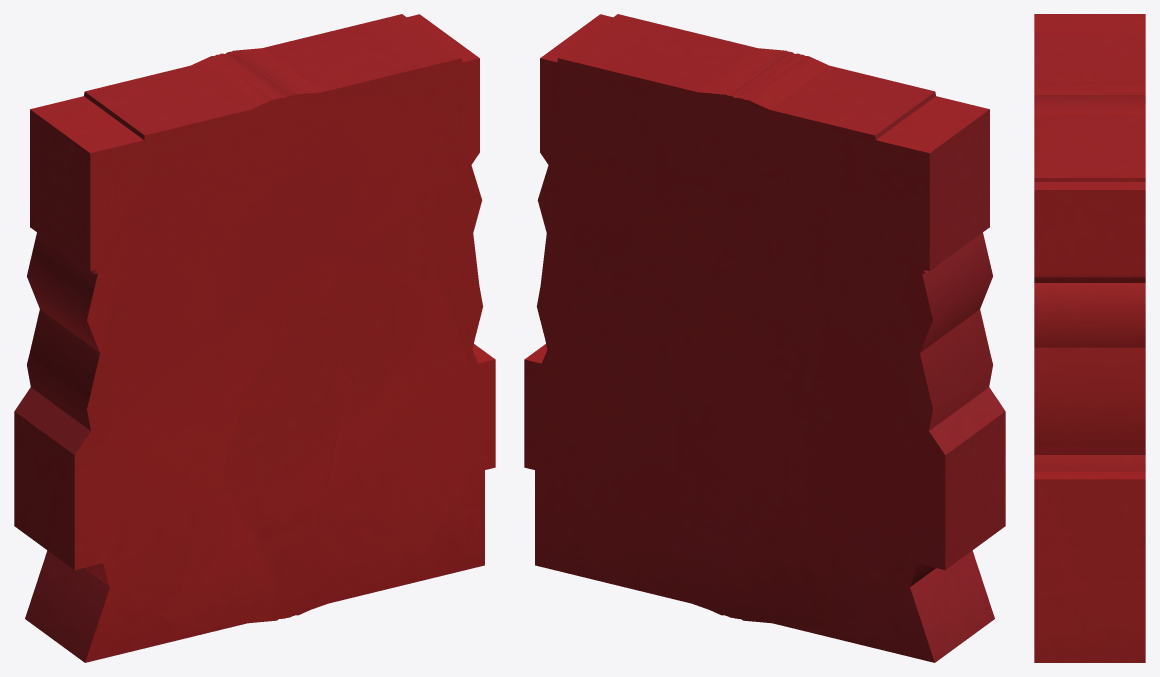
File: numbers.FBX
3 views of the same model, side by side, from view 1: azimuth 30°, elevation 25°; view 2: azimuth 150°, elevation 25°; view 3: azimuth 270°, elevation 25° (orthographic). The views are drawn at different scales.
Visible parts, largest first — view 1: 5, 4, 8, 9, 2, 0, 7, 6, 1, 3; view 2: 5, 4, 7, 9, 0, 3, 6, 1, 2, 8; view 3: 4, 2, 7, 5, 0, 9, 1, 6, 3, 8.
Boxes of the visible parts, <box> form: 5: <box>84,14,484,615</box>; 4: <box>14,20,495,604</box>; 8: <box>84,54,481,618</box>; 9: <box>27,56,483,628</box>; 2: <box>25,128,484,662</box>; 0: <box>29,51,481,618</box>; 7: <box>30,14,479,637</box>; 6: <box>27,48,482,615</box>; 1: <box>148,23,422,606</box>; 3: <box>91,53,474,617</box>; 5: <box>535,14,935,611</box>; 4: <box>524,20,1005,596</box>; 7: <box>540,14,989,637</box>; 9: <box>536,56,992,628</box>; 0: <box>539,51,990,618</box>; 3: <box>538,53,930,619</box>; 6: <box>537,48,992,617</box>; 1: <box>597,23,867,605</box>; 2: <box>535,91,994,662</box>; 8: <box>539,54,935,618</box>; 4: <box>1034,114,1145,579</box>; 2: <box>1034,283,1145,662</box>; 7: <box>1034,14,1145,282</box>; 5: <box>1034,34,1145,471</box>; 0: <box>1034,95,1145,454</box>; 9: <box>1034,82,1145,446</box>; 1: <box>1034,114,1145,160</box>; 6: <box>1034,97,1145,114</box>; 3: <box>1034,91,1145,94</box>; 8: <box>1034,89,1145,91</box>.
Bounding box in the file's own units: 22.51 × 26.67 × 5.58.
